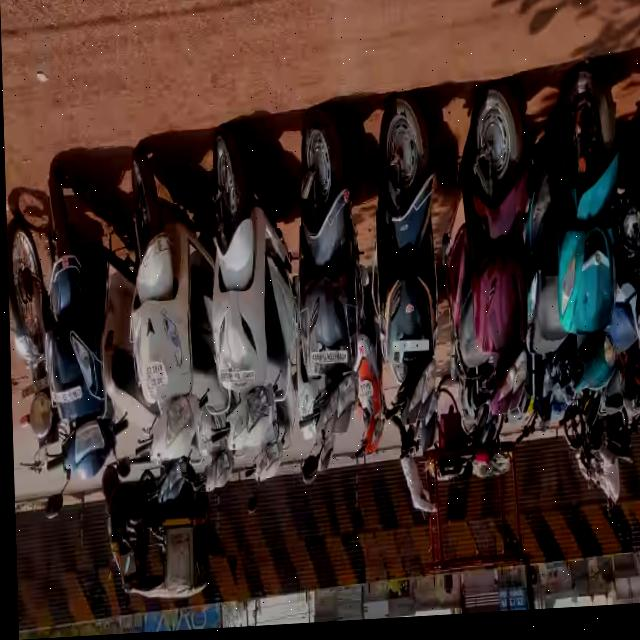plate: (385, 339, 429, 363), (141, 357, 167, 396), (306, 349, 348, 372), (214, 367, 254, 391), (16, 373, 46, 404), (46, 386, 82, 405)
